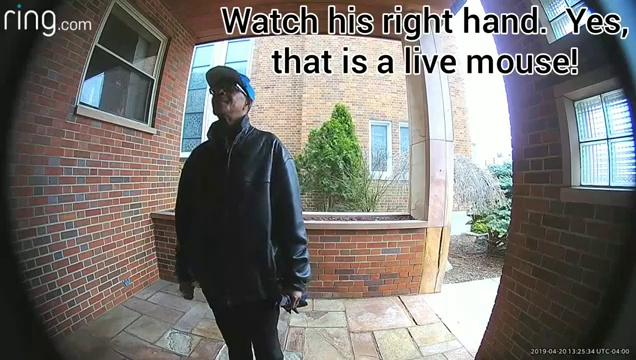face: (211, 83, 245, 114)
